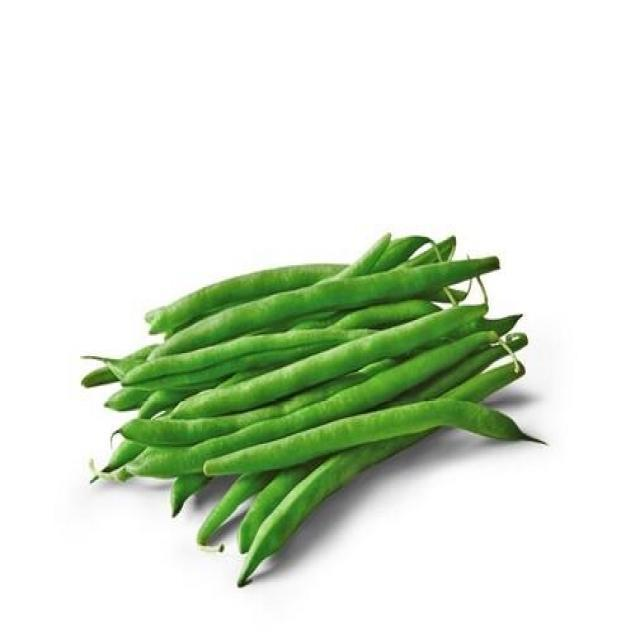Beans: (78, 218, 557, 597)
